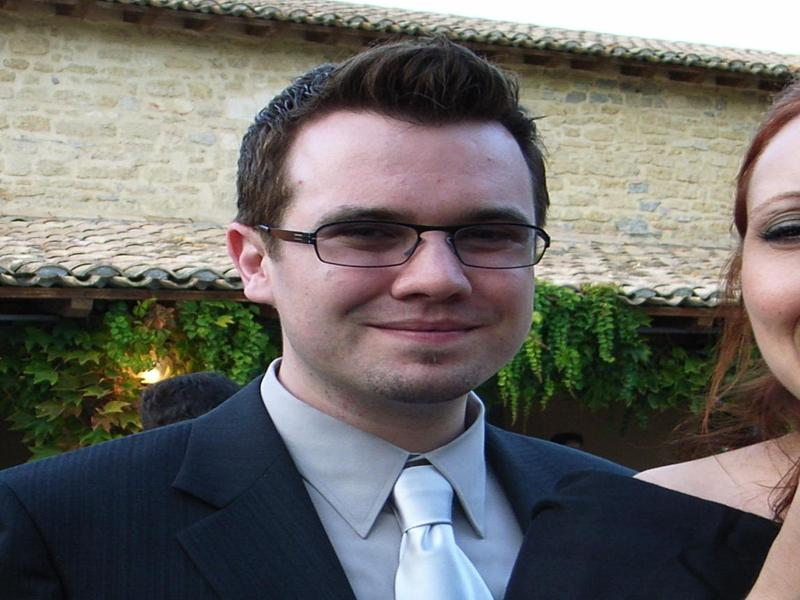person: (1, 36, 765, 600), (639, 78, 800, 600)
